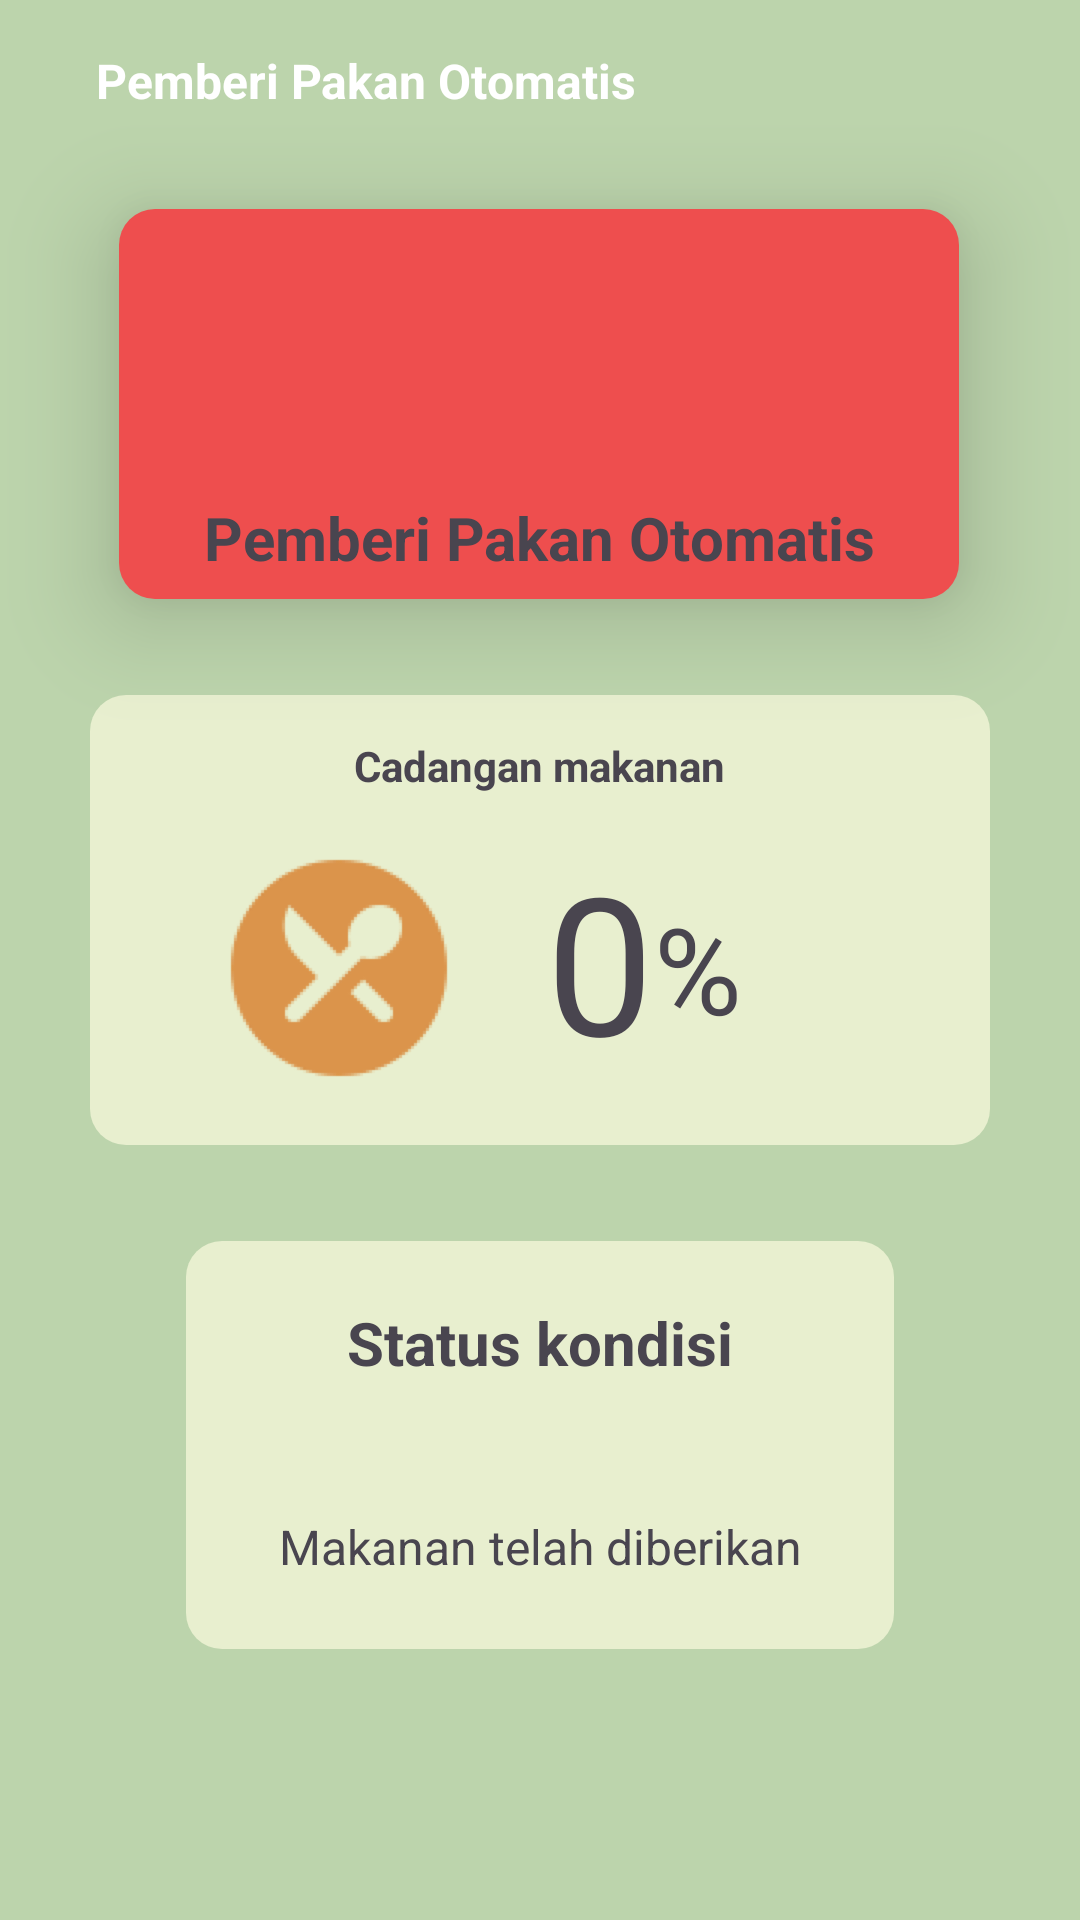

Screen size 1080 x 1920. Icon name, then its center in pixels as [x,y]:
meal: [339,968]
